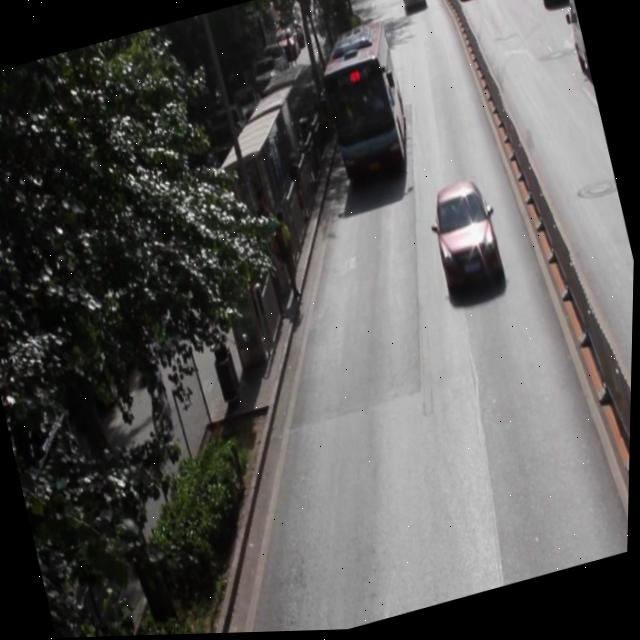car: (421, 179, 506, 297)
truck: (556, 0, 594, 89)
van: (311, 22, 417, 188)
